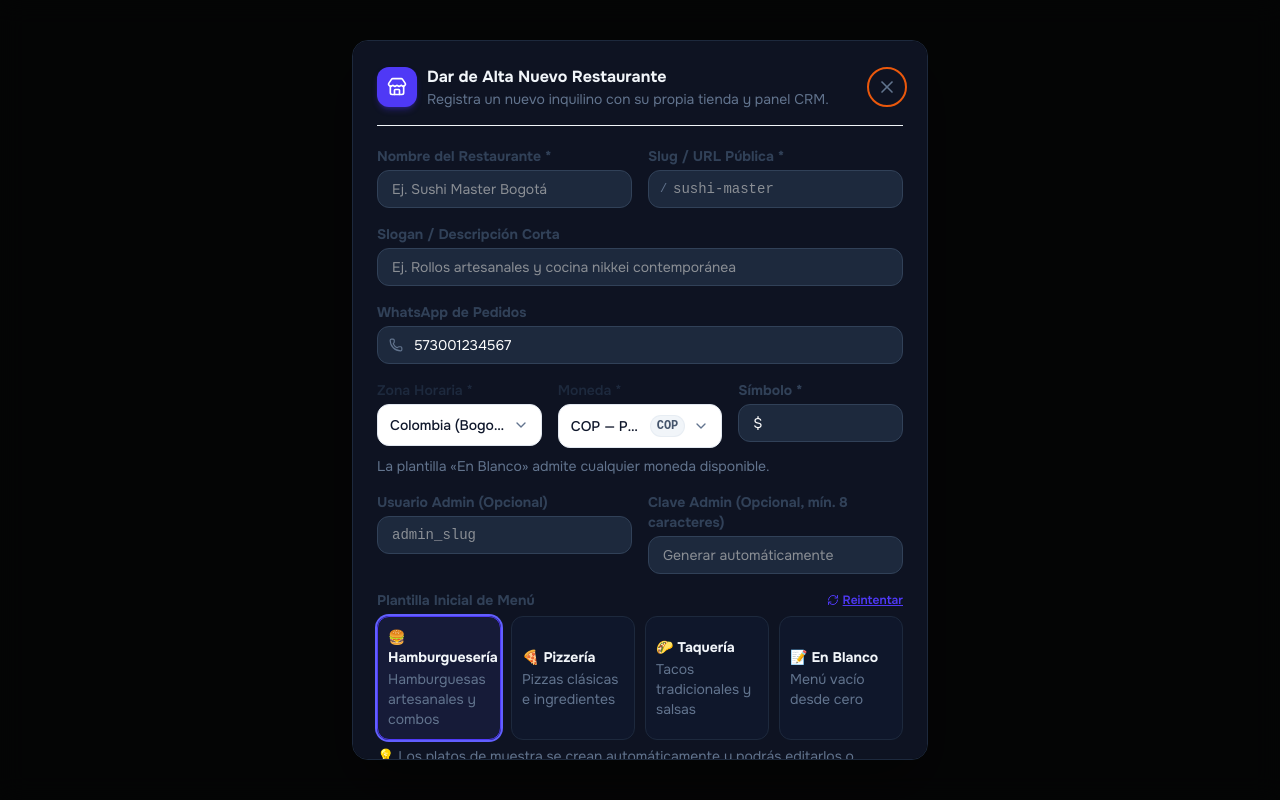
Test: CreateRestaurantModal (TDD) › shows template names without counts and a retry button if template API fails (Defect 4)
Expected: the text "🍔 Hamburguesería" is shown, [388,627,490,667]
Expected: the text "🍕 Pizzería" is shown, [522,648,595,666]
Click the button "Reintentar".
click(865, 600)  # box [827,592,903,608]
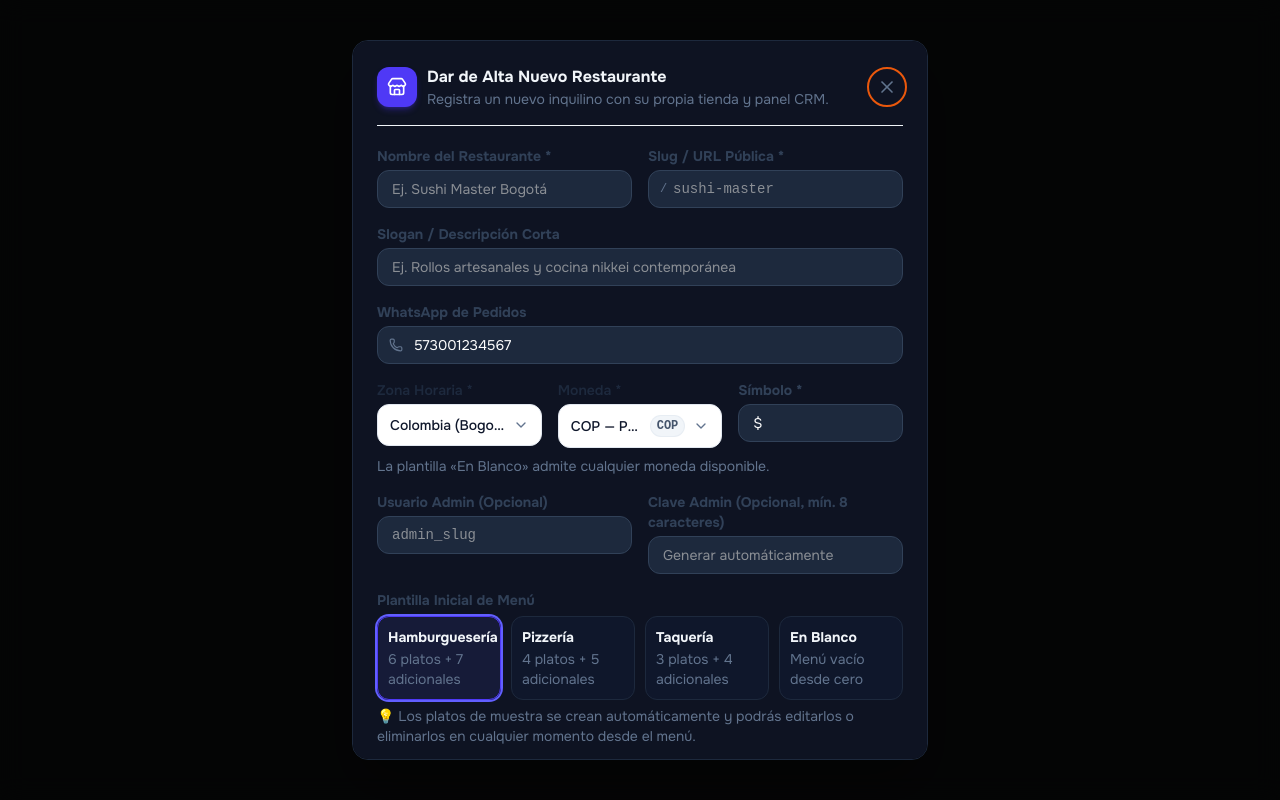
Expected: the text "4 platos + 5 adicionales" is shown, [522,650,599,688]
